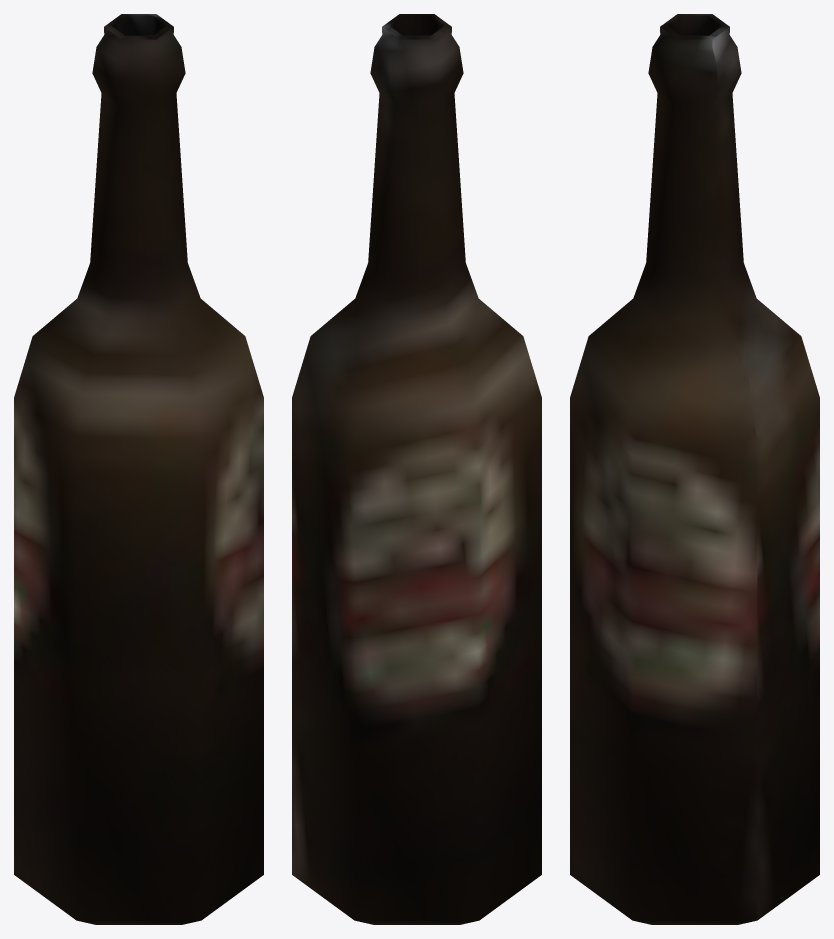
File: PisswaserBeer.FBX
The picture shows the model from 3 angles, left to right: view 1: azimuth 30°, elevation 25°; view 2: azimuth 150°, elevation 25°; view 3: azimuth 270°, elevation 25°; orthographic projection.
Visible parts, largest first — view 1: PisswaserBeer; view 2: PisswaserBeer; view 3: PisswaserBeer.
Boxes of the visible parts, x1,y1,x2,y2 form: PisswaserBeer: (14, 14, 263, 924); PisswaserBeer: (292, 14, 541, 924); PisswaserBeer: (570, 14, 819, 924).
Size of the model in its own units: 6.94 by 30.72 by 8.02.
